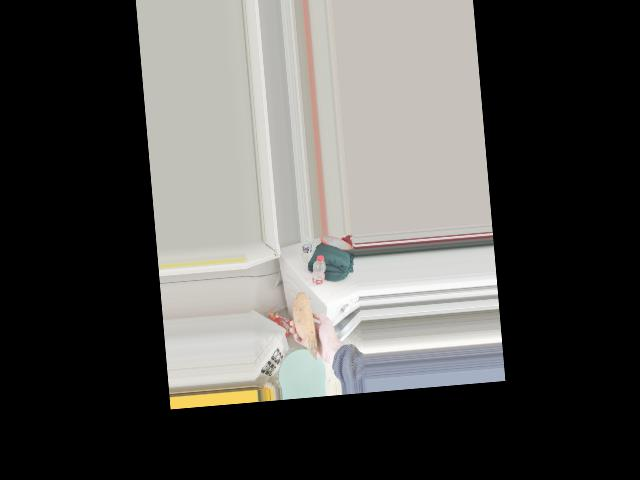sweet_potato: (288, 294, 314, 369)
